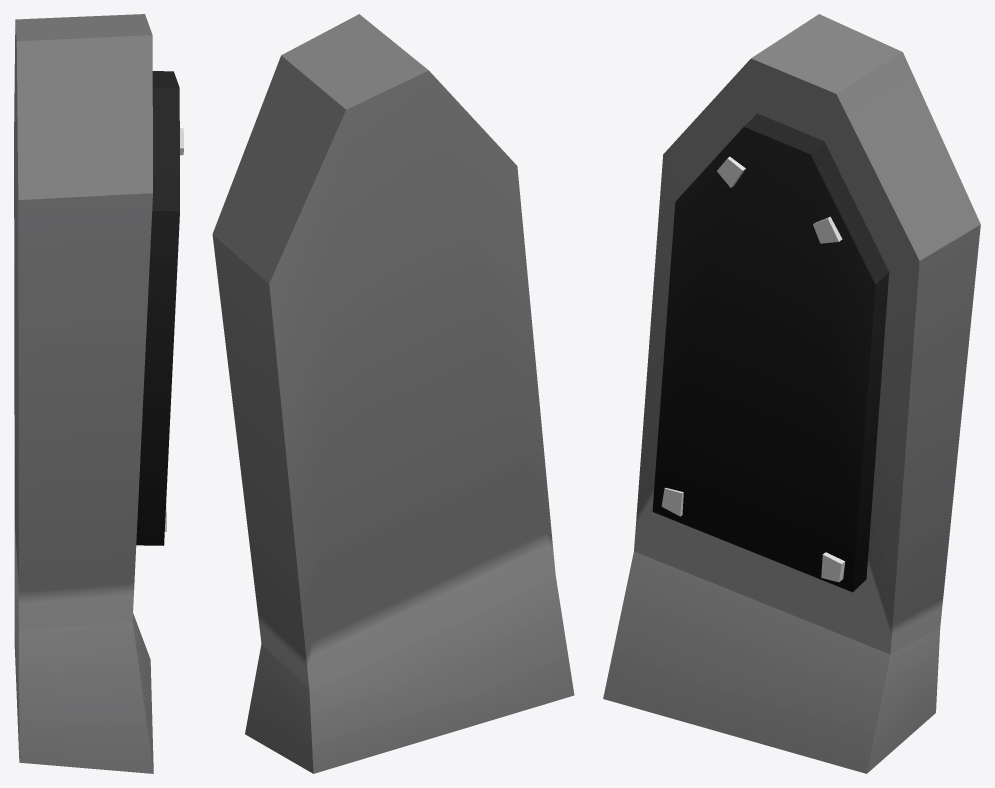
File: ea_grave_stone_mini_02a_pre__2__lev1.glb
3 views of the same model, side by side, from view 1: azimuth 30°, elevation 25°; view 2: azimuth 150°, elevation 25°; view 3: azimuth 270°, elevation 25° (orthographic).
Visible parts, largest first — view 1: ea_grave_stone_mini_02a_pre__2__lev1; view 2: ea_grave_stone_mini_02a_pre__2__lev1; view 3: ea_grave_stone_mini_02a_pre__2__lev1.
Boxes of the visible parts, x1,y1,x2,y2 form: ea_grave_stone_mini_02a_pre__2__lev1: [14, 14, 183, 773]; ea_grave_stone_mini_02a_pre__2__lev1: [212, 14, 574, 773]; ea_grave_stone_mini_02a_pre__2__lev1: [603, 14, 980, 773].
Bounding box in the file's own units: 0.3735 × 0.9955 × 0.4952.
Materials: 2 (1 with a texture image).
